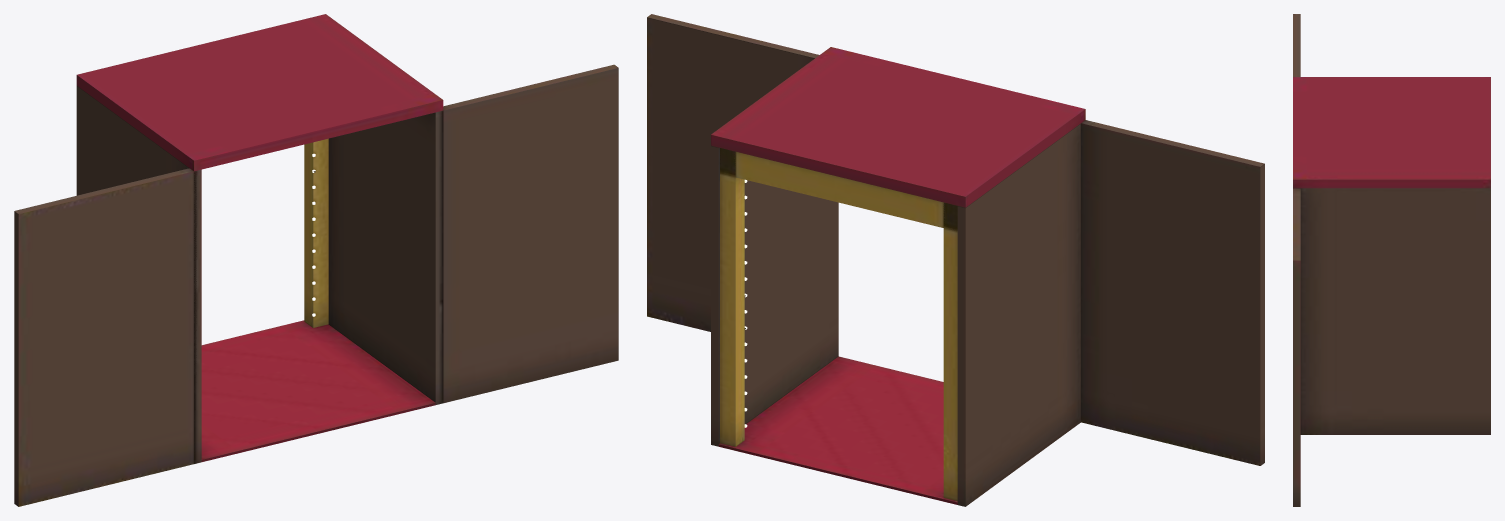
Rendered from casino_salida.glb.
The picture shows the model from 3 angles, left to right: view 1: azimuth 30°, elevation 25°; view 2: azimuth 150°, elevation 25°; view 3: azimuth 270°, elevation 25°; orthographic projection. The views are drawn at different scales.
Parts seen in each view (by area): view 1: casino_salida; view 2: casino_salida; view 3: casino_salida.
Part boxes in pixels (left/top/right/bottom): casino_salida: left=14, top=14, right=618, bottom=506; casino_salida: left=647, top=14, right=1264, bottom=506; casino_salida: left=1293, top=14, right=1490, bottom=506.
Size of the model in its own units: 23.6 by 11.4 by 8.
Materials: 1 (1 with a texture image).
